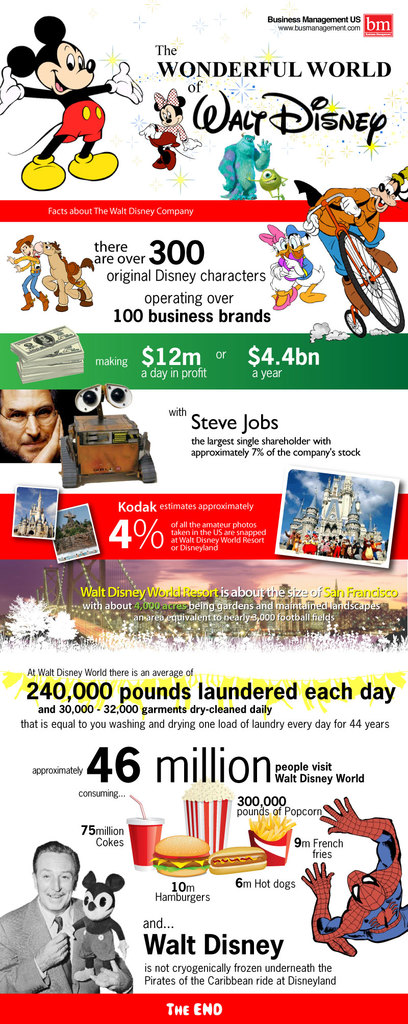French fries: (249, 816, 292, 839)
